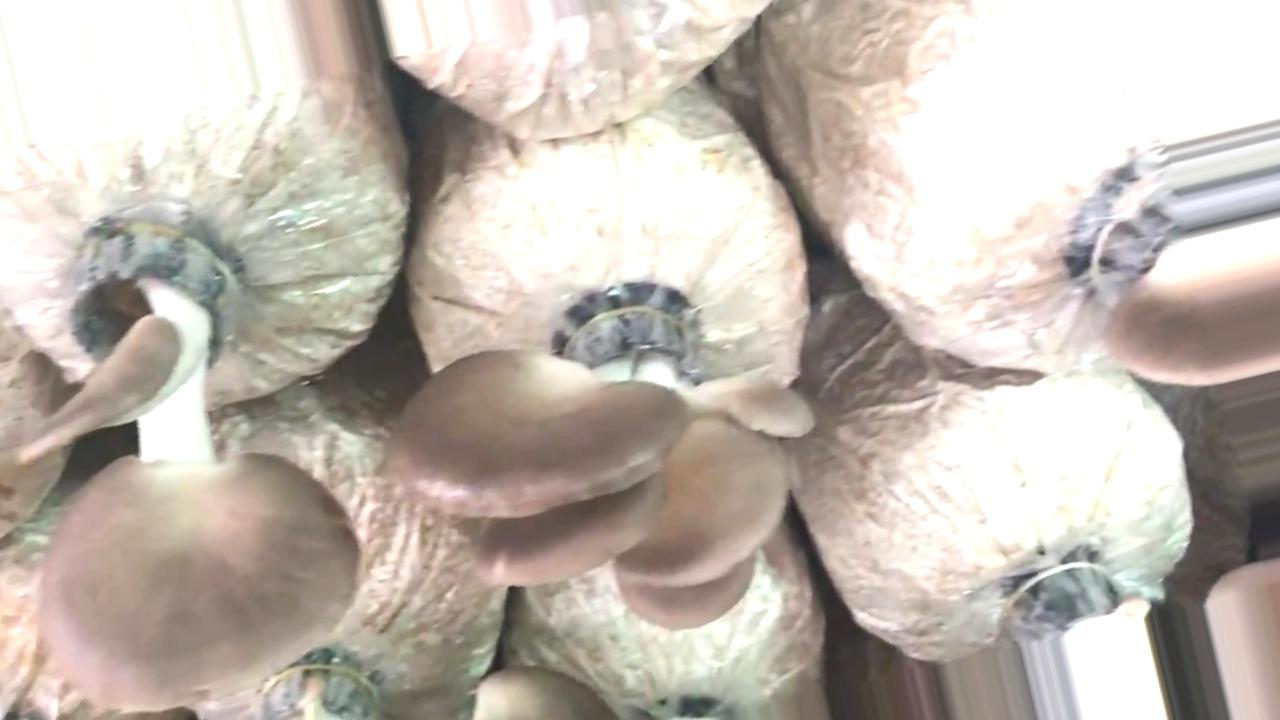nam: (9, 225, 368, 716), (385, 291, 818, 638), (1095, 181, 1280, 387)
